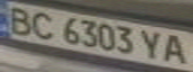0: (93, 20, 118, 53)
3: (115, 24, 139, 56), (78, 17, 100, 50)
6: (57, 15, 84, 46)
A: (160, 32, 193, 65)
B: (3, 3, 39, 35)
C: (27, 9, 60, 40)
Y: (136, 27, 166, 61)
